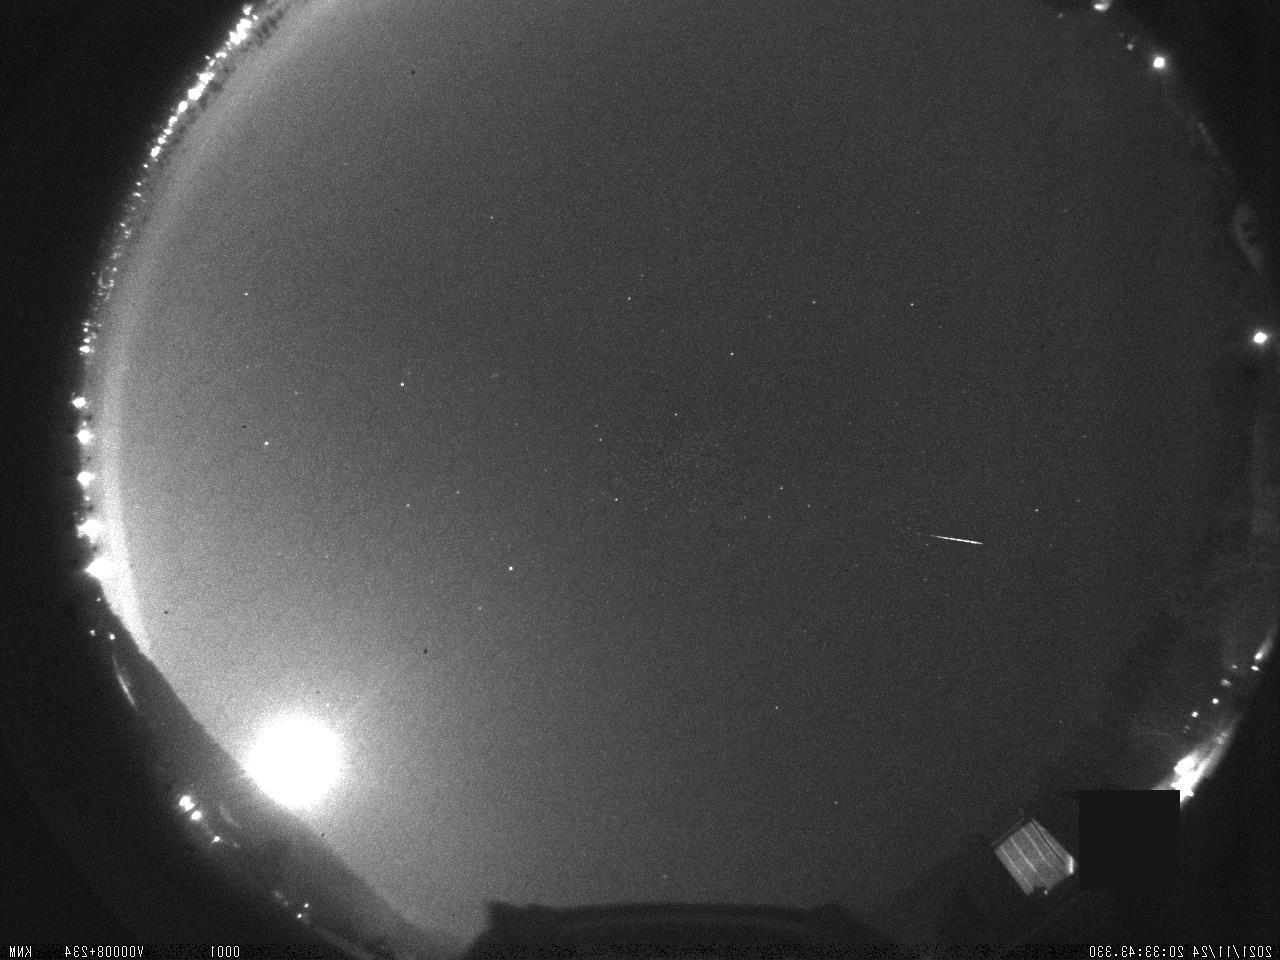meteor: (914, 528, 985, 555)
